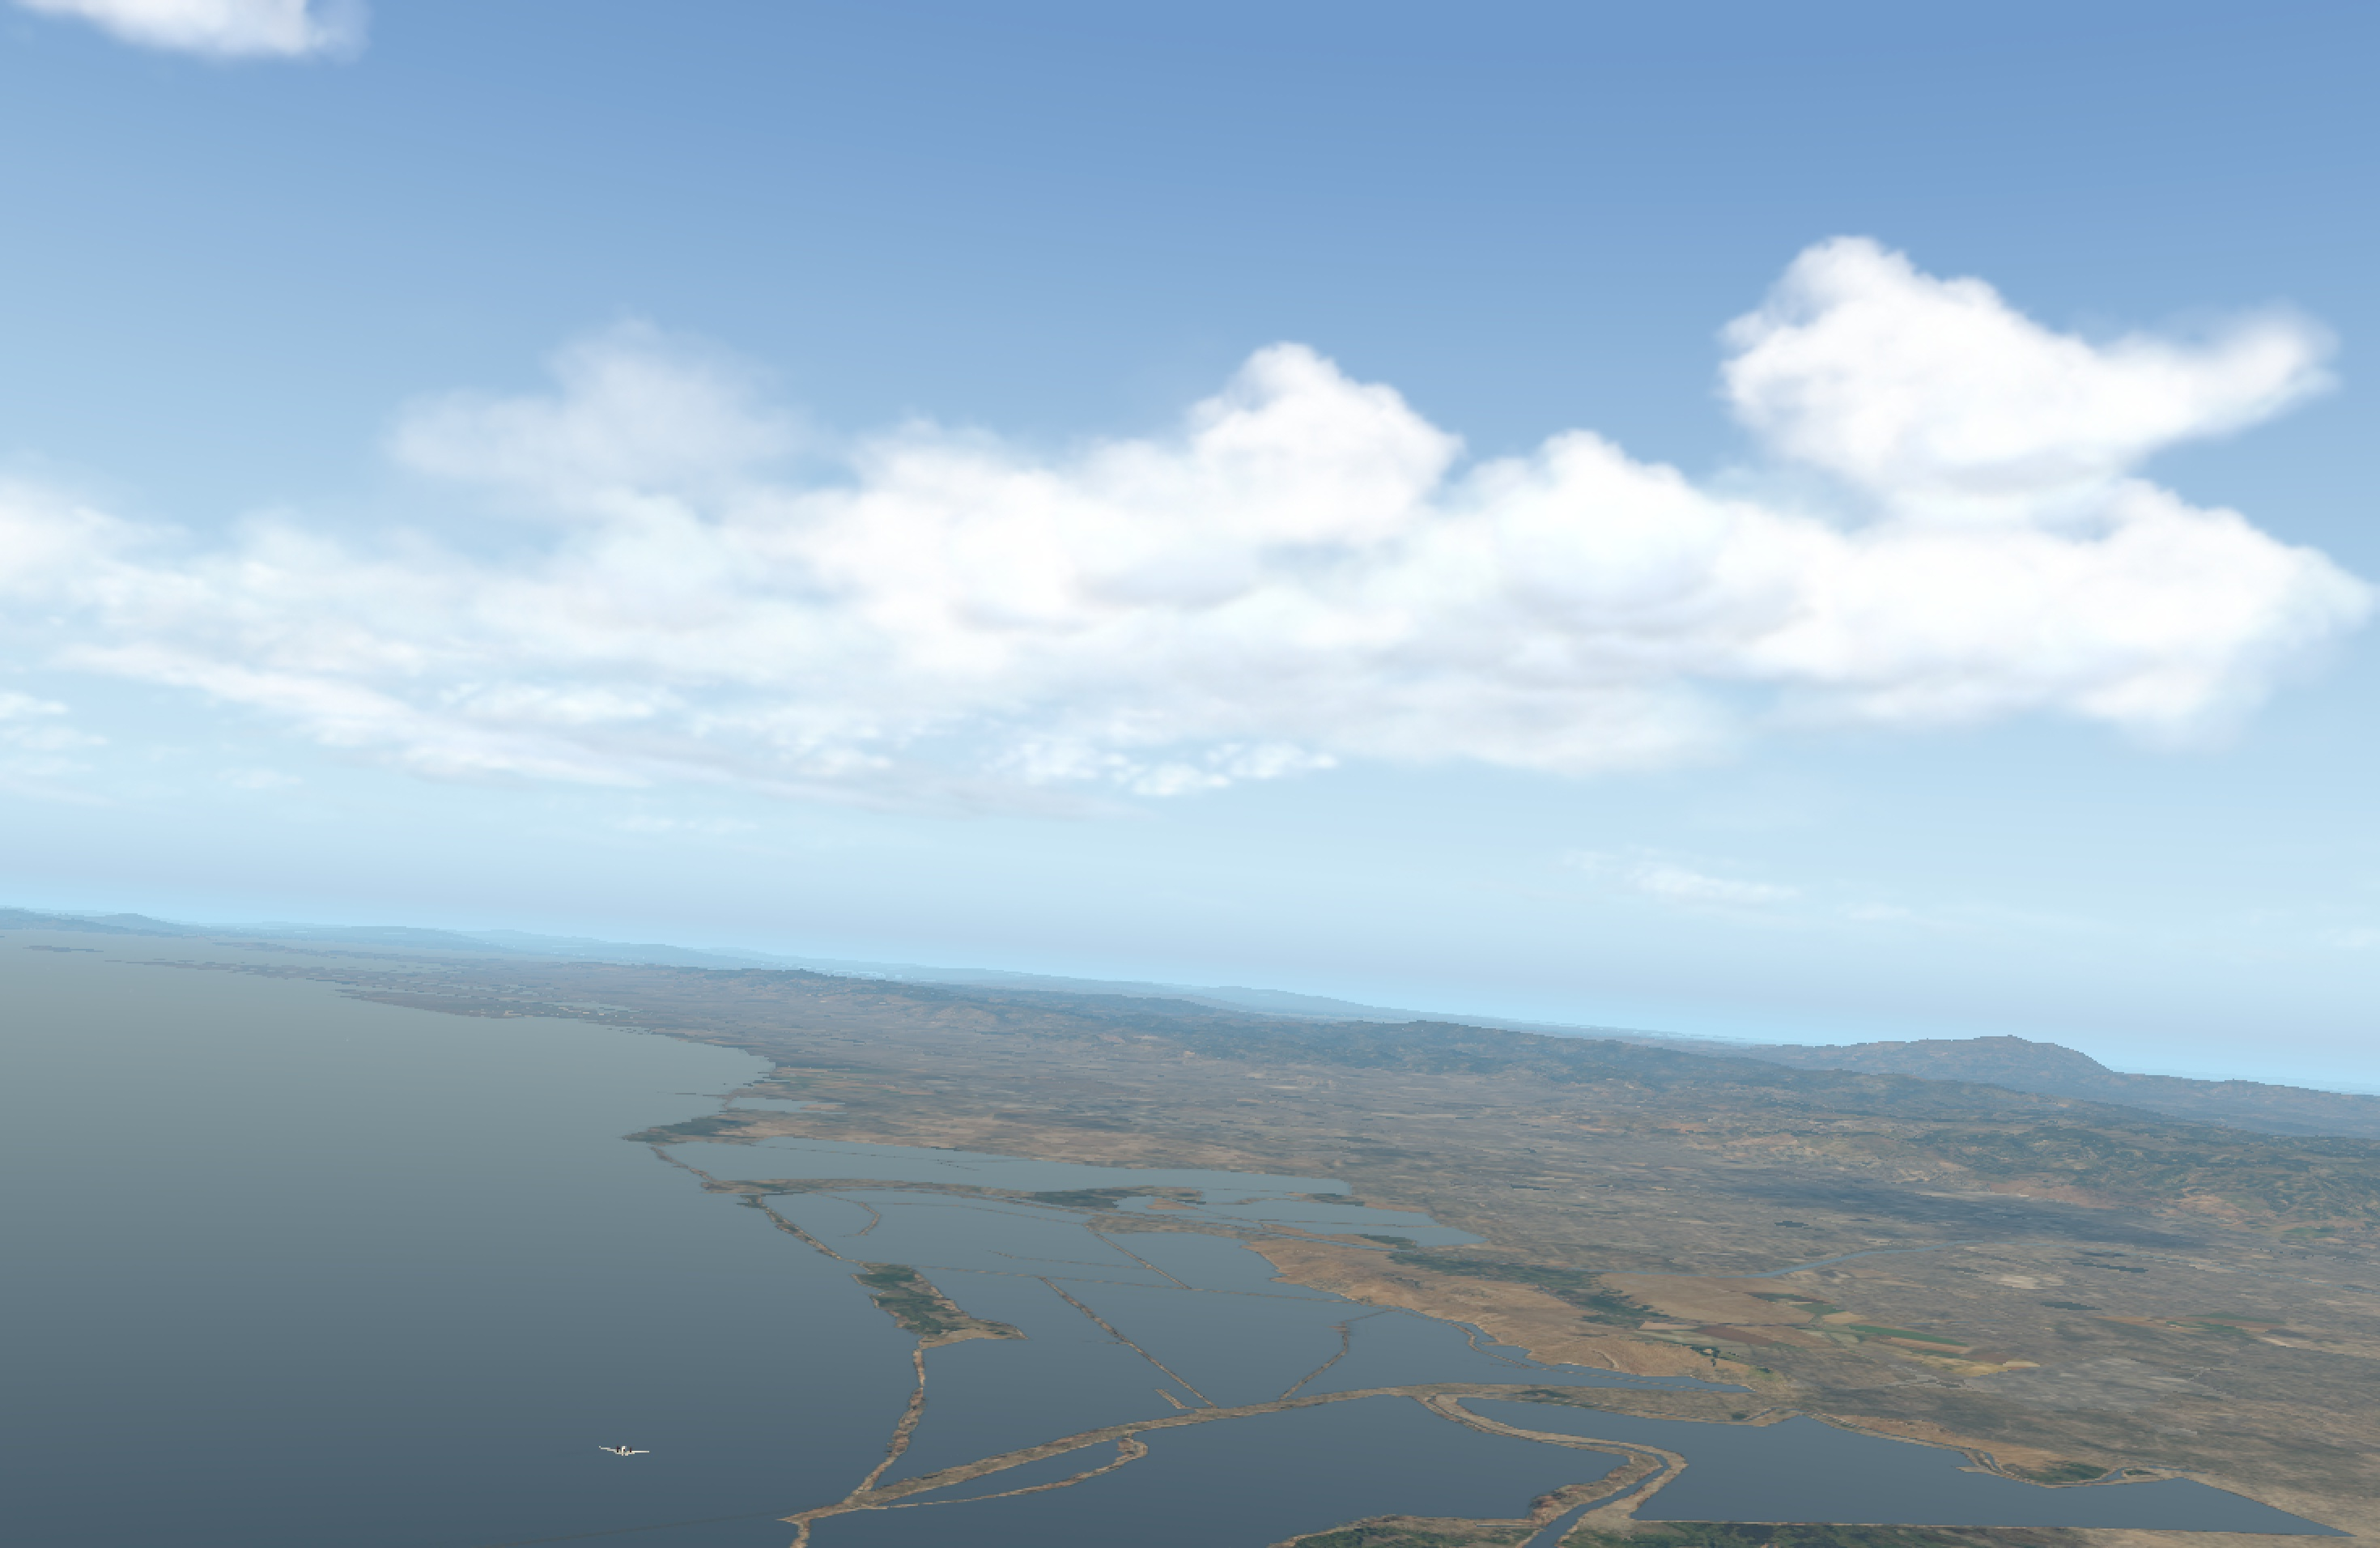aircraft: (600, 1442, 647, 1461)
